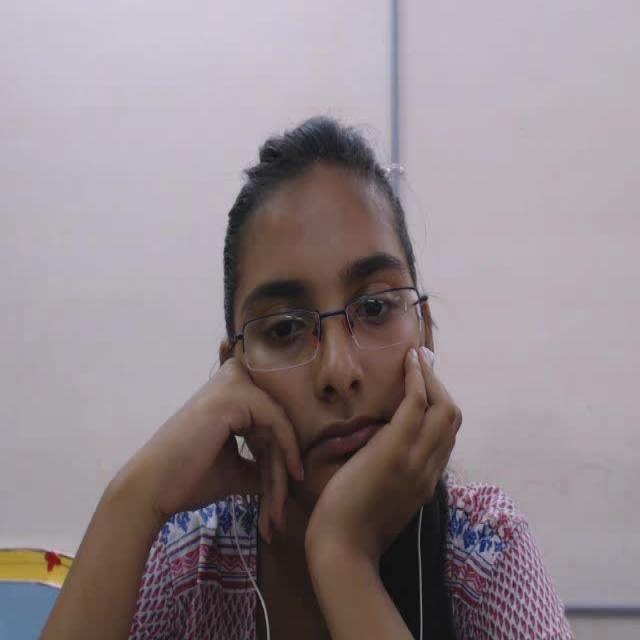Bored: (184, 72, 476, 630)
